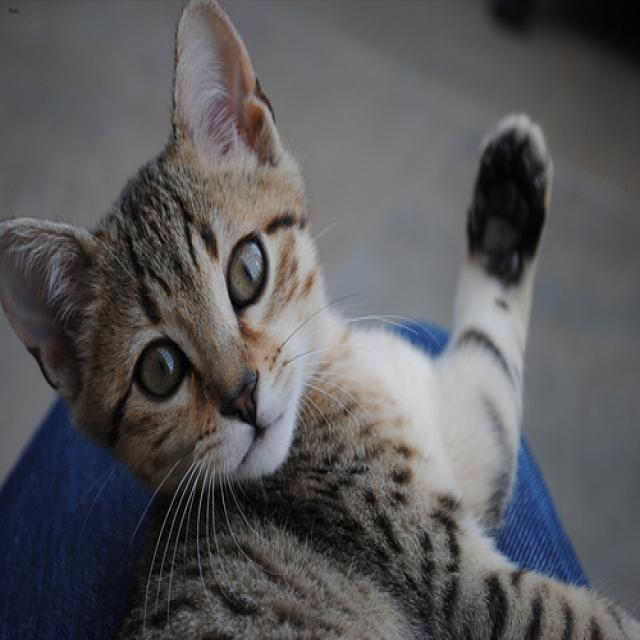Egyptian_Mau: (0, 0, 333, 491)
